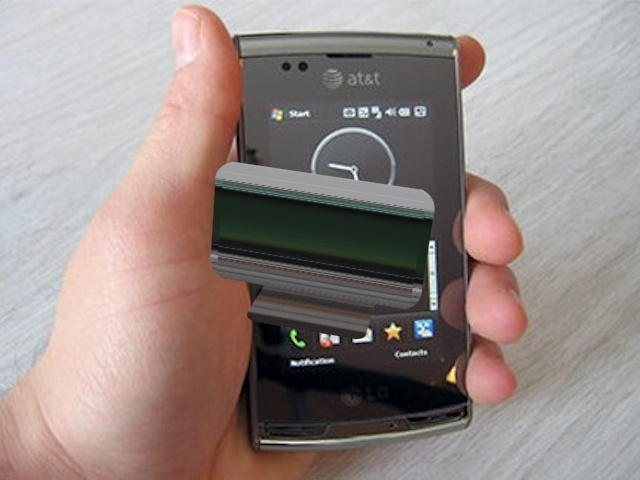monitor: (209, 161, 448, 352)
